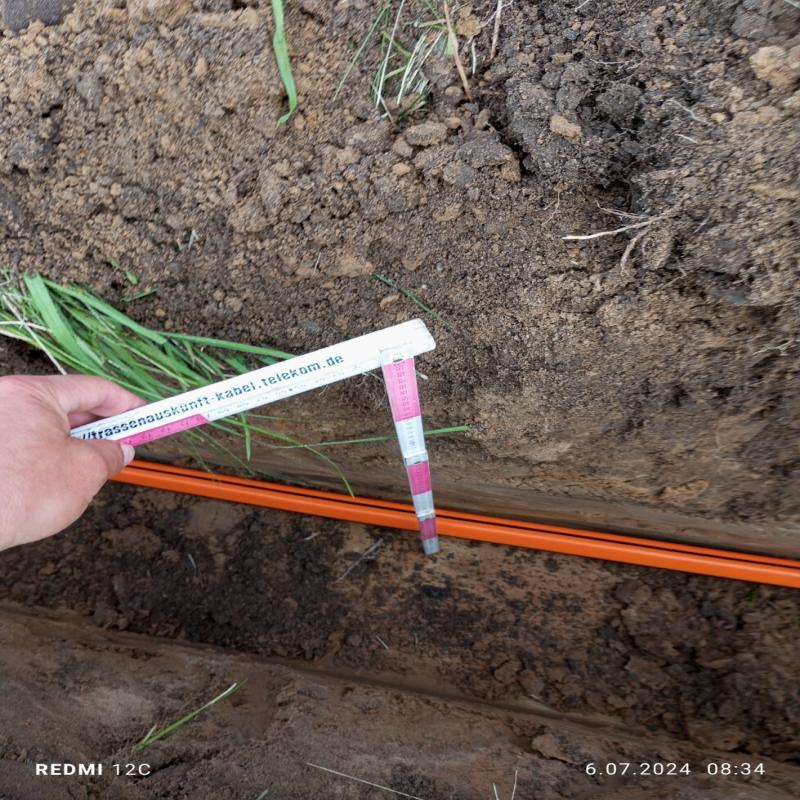Orang-Speednetrohrchen: (115, 458, 791, 588)
